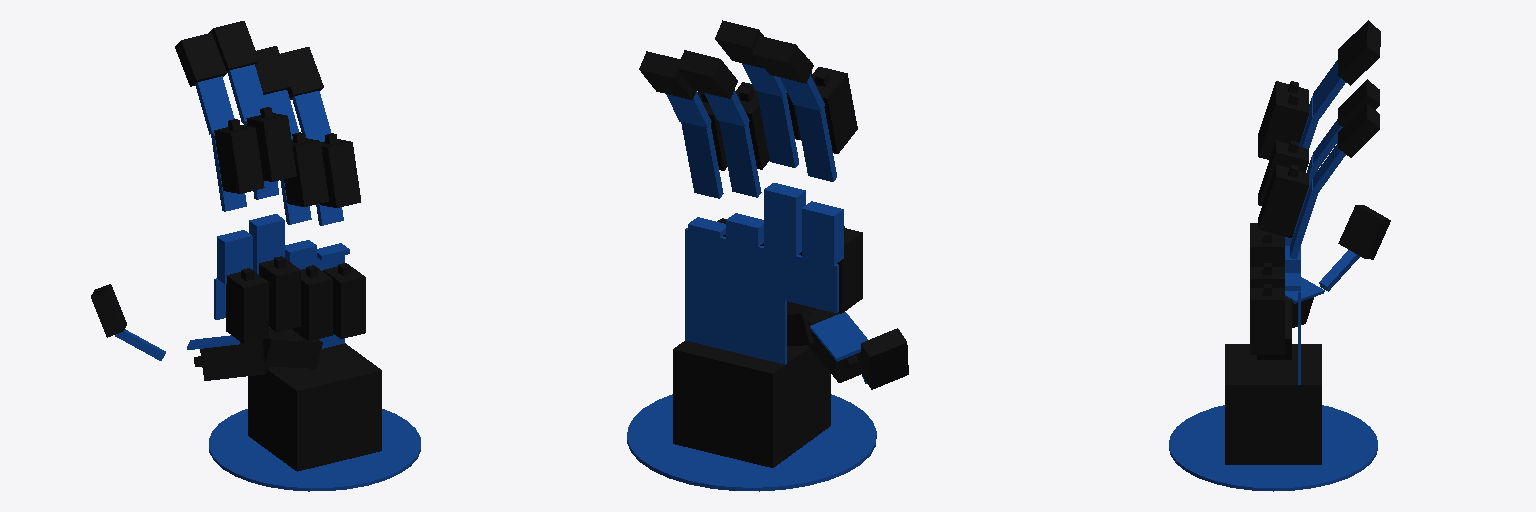
--- Render facts (derived) ---
Views: 3 orthographic renders of the robot side by side, from view 1: azimuth 30°, elevation 25°; view 2: azimuth 150°, elevation 25°; view 3: azimuth 270°, elevation 25°.
Robot: ar10 — 43 links, 42 joints (14 revolute, 10 prismatic, 18 fixed); root link wrist_plate; default pose: every joint at zero.
Visible links, largest first — view 1: circuit_support, wrist_plate, motor8, motor9, motor7, motor6, motor5, motor2, motor4, motor3, motor1, motor0 (+16 smaller); view 2: circuit_support, wrist_plate, palm1, palm2, knuckle3, knuckle4, thumb_tip, motor9, finger1a, finger3a, finger4a, finger2a (+15 smaller); view 3: circuit_support, wrist_plate, motor3, motor2, motor7, thumb_tip, finger1c, finger3c, motor5, motor6, finger2c, finger1a (+6 smaller).
Boxes of the visible links, box(x1,y1,x2,y2) form: circuit_support: box(248, 343, 381, 471); wrist_plate: box(209, 409, 420, 491); motor8: box(226, 269, 268, 343); motor9: box(214, 125, 264, 193); motor7: box(246, 113, 296, 181); motor6: box(259, 257, 300, 332); motor5: box(284, 138, 328, 206); motor2: box(323, 264, 365, 338); motor4: box(292, 268, 332, 340); motor3: box(320, 139, 360, 207); motor1: box(200, 340, 268, 380); motor0: box(263, 328, 322, 368); circuit_support: box(673, 341, 830, 467); wrist_plate: box(627, 394, 876, 491); palm1: box(685, 253, 786, 364); palm2: box(685, 228, 838, 312); knuckle3: box(764, 183, 805, 255); knuckle4: box(802, 201, 843, 264); thumb_tip: box(861, 328, 908, 389); motor9: box(811, 67, 857, 153); finger1a: box(681, 122, 723, 198); finger3a: box(757, 91, 798, 167); finger4a: box(795, 105, 836, 181); finger2a: box(719, 121, 761, 197); circuit_support: box(1225, 344, 1321, 464); wrist_plate: box(1169, 405, 1377, 491); motor3: box(1258, 165, 1308, 237); motor2: box(1250, 288, 1284, 354); motor7: box(1258, 92, 1308, 159); thumb_tip: box(1338, 205, 1390, 259); finger1c: box(1338, 104, 1379, 157); finger3c: box(1338, 32, 1379, 85); motor5: box(1258, 140, 1308, 205); motor6: box(1250, 235, 1284, 266); finger2c: box(1338, 79, 1379, 126); finger1a: box(1290, 179, 1317, 259).
Bounding box of the posed robot: 0.176 × 0.1275 × 0.2463 m (x, y, z).
Geometry: primitives only (box / cylinder / sphere), no mesh files.

robot.urdf — ar10:
<?xml version="1.0" ?>
<!-- =================================================================================== -->
<!-- |    This document was autogenerated by xacro from ar10.urdf.xacro                | -->
<!-- |    EDITING THIS FILE BY HAND IS NOT RECOMMENDED                                 | -->
<!-- =================================================================================== -->
<!--
Active8 Robots, AR10 URDF description
Beta release 1.1
Written by Nick Hornsey 
Last edited on 17/10/16

The following is a URDF description of the AR10 robotic hand (right handed).
The URDF can be viewed in Rviz using the following command from your ros workspace:
roslaunch src/ar10_description/launch/xacrodisplay.launch model:=src/ar10_description/urdf/ar10.urdf.xacro 

The joints can be controlled using the joint_state_publisher GUI.
This also publishes the joint positions to the topic joint_states. 

This model is outdated, for a more accurate representation, ar10.urdf is recommended instead. -->
<robot name="ar10">
  <!--robot name="ar10"> -->
  <link name="wrist_plate">
    <visual>
      <geometry>
        <cylinder length="0.002" radius="0.06"/>
      </geometry>
      <material name="blue">
        <color rgba=".1 .3 .6 1"/>
      </material>
    </visual>
    <collision>
      <geometry>
        <cylinder length="0.002" radius="0.06"/>
      </geometry>
    </collision>
  </link>
  <link name="circuit_support">
    <visual>
      <geometry>
        <box size="0.0555 0.0555 0.05"/>
      </geometry>
      <origin xyz="0 0 0"/>
      <material name="black">
        <color rgba=".1 .1 .1 1"/>
      </material>
    </visual>
    <collision>
      <geometry>
        <box size="0.0555 0.0555 0.05"/>
      </geometry>
    </collision>
    <inertial>
      <mass value="1"/>
      <inertia ixx="0.4" ixy="0.0" ixz="0.0" iyy="0.4" iyz="0.0" izz="0.2"/>
    </inertial>
  </link>
  <joint name="wrist_plate_to_circuit_support" type="fixed">
    <parent link="wrist_plate"/>
    <child link="circuit_support"/>
    <origin xyz="0 0 .026"/>
  </joint>
   define palm1 parameters
  
   define palm2 parameters
  
   define knuckle 1 parameters
  
   define knuckle 2 parameters
  
   define knuckle 3 parameters
  
   define knuckle 4 parameters

  
  <link name="palm1">
    <visual>
      <geometry>
        <box size="0.0555 0.002 0.0463"/>
      </geometry>
      <origin xyz="0 0 0"/>
      <material name="blue">
      </material>
    </visual>
    <collision>
      <geometry>
        <box size="0.0555 0.002 0.0463"/>
      </geometry>
    </collision>
    <inertial>
      <mass value="1"/>
      <inertia ixx="0.4" ixy="0.0" ixz="0.0" iyy="0.4" iyz="0.0" izz="0.2"/>
    </inertial>
  </link>
  <joint name="circuit_support_to_palm1" type="fixed">
    <parent link="circuit_support"/>
    <child link="palm1"/>
    <origin xyz="0 .015 .04815"/>
  </joint>
  <link name="palm2">
    <visual>
      <geometry>
        <box size="0.084 0.002 0.025"/>
      </geometry>
      <origin xyz="0 0 0"/>
      <material name="blue">
      </material>
    </visual>
    <collision>
      <geometry>
        <box size="0.084 0.002 0.025"/>
      </geometry>
    </collision>
    <inertial>
      <mass value="1"/>
      <inertia ixx="0.4" ixy="0.0" ixz="0.0" iyy="0.4" iyz="0.0" izz="0.2"/>
    </inertial>
  </link>
  <joint name="palm1_to_palm2" type="fixed">
    <parent link="palm1"/>
    <child link="palm2"/>
    <origin xyz="-.01425 0 .02315"/>
  </joint>
  <link name="knuckle1">
    <visual>
      <geometry>
        <box size="0.018 0.0095 0.003"/>
      </geometry>
      <origin xyz="0 0 0"/>
      <material name="blue">
      </material>
    </visual>
    <collision>
      <geometry>
        <box size="0.018 0.0095 0.003"/>
      </geometry>
    </collision>
    <inertial>
      <mass value="1"/>
      <inertia ixx="0.4" ixy="0.0" ixz="0.0" iyy="0.4" iyz="0.0" izz="0.2"/>
    </inertial>
  </link>
  <joint name="palm2_to_knuckle1" type="fixed">
    <parent link="palm2"/>
    <child link="knuckle1"/>
    <origin xyz="0.0315 -.00375 .014"/>
  </joint>
  <link name="knuckle2">
    <visual>
      <geometry>
        <box size="0.018 0.0095 0.01"/>
      </geometry>
      <origin xyz="0 0 0"/>
      <material name="blue">
      </material>
    </visual>
    <collision>
      <geometry>
        <box size="0.018 0.0095 0.01"/>
      </geometry>
    </collision>
    <inertial>
      <mass value="1"/>
      <inertia ixx="0.4" ixy="0.0" ixz="0.0" iyy="0.4" iyz="0.0" izz="0.2"/>
    </inertial>
  </link>
  <joint name="palm2_to_knuckle2" type="fixed">
    <parent link="palm2"/>
    <child link="knuckle2"/>
    <origin xyz="0.0105 -.00375 .0175"/>
  </joint>
  <link name="knuckle3">
    <visual>
      <geometry>
        <box size="0.018 0.0095 0.031"/>
      </geometry>
      <origin xyz="0 0 0"/>
      <material name="blue">
      </material>
    </visual>
    <collision>
      <geometry>
        <box size="0.018 0.0095 0.031"/>
      </geometry>
    </collision>
    <inertial>
      <mass value="1"/>
      <inertia ixx="0.4" ixy="0.0" ixz="0.0" iyy="0.4" iyz="0.0" izz="0.2"/>
    </inertial>
  </link>
  <joint name="palm2_to_knuckle3" type="fixed">
    <parent link="palm2"/>
    <child link="knuckle3"/>
    <origin xyz="-.0105 -.00375 0.028"/>
  </joint>
  <link name="knuckle4">
    <visual>
      <geometry>
        <box size="0.018 0.0095 0.026"/>
      </geometry>
      <origin xyz="0 0 0"/>
      <material name="blue">
      </material>
    </visual>
    <collision>
      <geometry>
        <box size="0.018 0.0095 0.026"/>
      </geometry>
    </collision>
    <inertial>
      <mass value="1"/>
      <inertia ixx="0.4" ixy="0.0" ixz="0.0" iyy="0.4" iyz="0.0" izz="0.2"/>
    </inertial>
  </link>
  <joint name="palm2_to_knuckle4" type="fixed">
    <parent link="palm2"/>
    <child link="knuckle4"/>
    <origin xyz="-.0315 -.00375 .0255"/>
  </joint>
   define fingers

  
  <link name="finger1a">
    <visual>
      <geometry>
        <box size="0.014 0.004 0.045"/>
      </geometry>
      <origin xyz="0 0 0.0225"/>
      <material name="blue">
      </material>
    </visual>
    <collision>
      <geometry>
        <box size="0.014 0.004 0.045"/>
      </geometry>
      <origin xyz="0 0 0.0225"/>
    </collision>
    <inertial>
      <mass value="1"/>
      <inertia ixx="0.4" ixy="0.0" ixz="0.0" iyy="0.4" iyz="0.0" izz="0.2"/>
    </inertial>
  </link>
  <joint name="knuckle1_to_finger1a" type="revolute">
    <axis xyz="-1 0 0"/>
    <limit effort="1000.0" lower="0.0" upper="1.5" velocity="0.5"/>
    <parent link="knuckle1"/>
    <child link="finger1a"/>
    <origin xyz="0 0 .018"/>
    <joint_properties damping="1.0" friction="0.0"/>
    <mimic joint="pris2" multiplier="79.93" offset="0.29"/>
  </joint>
  <link name="finger2a">
    <visual>
      <geometry>
        <box size="0.014 0.004 0.045"/>
      </geometry>
      <origin xyz="0 0 0.0225"/>
      <material name="blue">
      </material>
    </visual>
    <collision>
      <geometry>
        <box size="0.014 0.004 0.045"/>
      </geometry>
      <origin xyz="0 0 0.0225"/>
    </collision>
    <inertial>
      <mass value="1"/>
      <inertia ixx="0.4" ixy="0.0" ixz="0.0" iyy="0.4" iyz="0.0" izz="0.2"/>
    </inertial>
  </link>
  <joint name="knuckle2_to_finger2a" type="revolute">
    <axis xyz="-1 0 0"/>
    <limit effort="1000.0" lower="0.0" upper="1.5" velocity="0.5"/>
    <parent link="knuckle2"/>
    <child link="finger2a"/>
    <origin xyz="0 0 .02"/>
    <joint_properties damping="1.0" friction="0.0"/>
    <mimic joint="pris4" multiplier="79.93" offset="0.29"/>
  </joint>
  <link name="finger3a">
    <visual>
      <geometry>
        <box size="0.014 0.004 0.045"/>
      </geometry>
      <origin xyz="0 0 0.0225"/>
      <material name="blue">
      </material>
    </visual>
    <collision>
      <geometry>
        <box size="0.014 0.004 0.045"/>
      </geometry>
      <origin xyz="0 0 0.0225"/>
    </collision>
    <inertial>
      <mass value="1"/>
      <inertia ixx="0.4" ixy="0.0" ixz="0.0" iyy="0.4" iyz="0.0" izz="0.2"/>
    </inertial>
  </link>
  <joint name="knuckle3_to_finger3a" type="revolute">
    <axis xyz="-1 0 0"/>
    <limit effort="1000.0" lower="0.0" upper="1.5" velocity="0.5"/>
    <parent link="knuckle3"/>
    <child link="finger3a"/>
    <origin xyz="0 0 .03"/>
    <joint_properties damping="1.0" friction="0.0"/>
    <mimic joint="pris6" multiplier="79.93" offset="0.29"/>
  </joint>
  <link name="finger4a">
    <visual>
      <geometry>
        <box size="0.014 0.004 0.045"/>
      </geometry>
      <origin xyz="0 0 0.0225"/>
      <material name="blue">
      </material>
    </visual>
    <collision>
      <geometry>
        <box size="0.014 0.004 0.045"/>
      </geometry>
      <origin xyz="0 0 0.0225"/>
    </collision>
    <inertial>
      <mass value="1"/>
      <inertia ixx="0.4" ixy="0.0" ixz="0.0" iyy="0.4" iyz="0.0" izz="0.2"/>
    </inertial>
  </link>
  <joint name="knuckle4_to_finger4a" type="revolute">
    <axis xyz="-1 0 0"/>
    <limit effort="1000.0" lower="0.0" upper="1.5" velocity="0.5"/>
    <parent link="knuckle4"/>
    <child link="finger4a"/>
    <origin xyz="0 0 .03"/>
    <joint_properties damping="1.0" friction="0.0"/>
    <mimic joint="pris8" multiplier="79.93" offset="0.29"/>
  </joint>
  <link name="finger1b">
    <visual>
      <geometry>
        <box size="0.016 0.004 0.03"/>
      </geometry>
      <origin xyz="0 0 0.015"/>
      <material name="blue">
      </material>
    </visual>
    <collision>
      <geometry>
        <box size="0.016 0.004 0.03"/>
      </geometry>
      <origin xyz="0 0 0.015"/>
    </collision>
    <inertial>
      <mass value="1"/>
      <inertia ixx="0.4" ixy="0.0" ixz="0.0" iyy="0.4" iyz="0.0" izz="0.2"/>
    </inertial>
  </link>
  <joint name="finger1a_to_finger1b" type="revolute">
    <axis xyz="-1 0 0"/>
    <limit effort="1000.0" lower="0.0" upper="1.5" velocity="0.5"/>
    <parent link="finger1a"/>
    <child link="finger1b"/>
    <origin xyz="0 0 0.045"/>
    <mimic joint="pris3" multiplier="79.64" offset="0.29"/>
    <joint_properties damping="1.0" friction="0.0"/>
  </joint>
  <link name="finger2b">
    <visual>
      <geometry>
        <box size="0.016 0.004 0.03"/>
      </geometry>
      <origin xyz="0 0 0.015"/>
      <material name="blue">
      </material>
    </visual>
    <collision>
      <geometry>
        <box size="0.016 0.004 0.03"/>
      </geometry>
      <origin xyz="0 0 0.015"/>
    </collision>
    <inertial>
      <mass value="1"/>
      <inertia ixx="0.4" ixy="0.0" ixz="0.0" iyy="0.4" iyz="0.0" izz="0.2"/>
    </inertial>
  </link>
  <joint name="finger2a_to_finger2b" type="revolute">
    <axis xyz="-1 0 0"/>
    <limit effort="1000.0" lower="0.0" upper="1.5" velocity="0.5"/>
    <parent link="finger2a"/>
    <child link="finger2b"/>
    <origin xyz="0 0 0.045"/>
    <joint_properties damping="1.0" friction="0.0"/>
    <mimic joint="pris5" multiplier="79.64" offset="0.29"/>
  </joint>
  <link name="finger3b">
    <visual>
      <geometry>
        <box size="0.016 0.004 0.03"/>
      </geometry>
      <origin xyz="0 0 0.015"/>
      <material name="blue">
      </material>
    </visual>
    <collision>
      <geometry>
        <box size="0.016 0.004 0.03"/>
      </geometry>
      <origin xyz="0 0 0.015"/>
    </collision>
    <inertial>
      <mass value="1"/>
      <inertia ixx="0.4" ixy="0.0" ixz="0.0" iyy="0.4" iyz="0.0" izz="0.2"/>
    </inertial>
  </link>
  <joint name="finger3a_to_finger3b" type="revolute">
    <axis xyz="-1 0 0"/>
    <limit effort="1000.0" lower="0.0" upper="1.5" velocity="0.5"/>
    <parent link="finger3a"/>
    <child link="finger3b"/>
    <origin xyz="0 0 0.045"/>
    <joint_properties damping="1.0" friction="0.0"/>
    <mimic joint="pris7" multiplier="79.64" offset="0.29"/>
  </joint>
  <link name="finger4b">
    <visual>
      <geometry>
        <box size="0.016 0.004 0.03"/>
      </geometry>
      <origin xyz="0 0 0.015"/>
      <material name="blue">
      </material>
    </visual>
    <collision>
      <geometry>
        <box size="0.016 0.004 0.03"/>
      </geometry>
      <origin xyz="0 0 0.015"/>
    </collision>
    <inertial>
      <mass value="1"/>
      <inertia ixx="0.4" ixy="0.0" ixz="0.0" iyy="0.4" iyz="0.0" izz="0.2"/>
    </inertial>
  </link>
  <joint name="finger4a_to_finger4b" type="revolute">
    <axis xyz="-1 0 0"/>
    <limit effort="1000.0" lower="0.0" upper="1.5" velocity="0.5"/>
    <parent link="finger4a"/>
    <child link="finger4b"/>
    <origin xyz="0 0 0.045"/>
    <joint_properties damping="1.0" friction="0.0"/>
    <mimic joint="pris9" multiplier="79.64" offset="0.29"/>
  </joint>
  <link name="finger1c">
    <visual>
      <geometry>
        <box size="0.02 0.01 0.025"/>
      </geometry>
      <origin xyz="0 0 0.0125"/>
      <material name="black">
      </material>
    </visual>
    <collision>
      <geometry>
        <box size="0.02 0.01 0.025"/>
      </geometry>
      <origin xyz="0 0 0.0125"/>
    </collision>
    <inertial>
      <mass value="1"/>
      <inertia ixx="0.4" ixy="0.0" ixz="0.0" iyy="0.4" iyz="0.0" izz="0.2"/>
    </inertial>
  </link>
  <joint name="finger1b_to_finger1c" type="revolute">
    <parent link="finger1b"/>
    <child link="finger1c"/>
    <origin xyz="0 0 0.03"/>
    <axis xyz="-1 0 0"/>
    <limit effort="1000.0" lower="0" upper="1.5" velocity="0.5"/>
    <mimic joint="pris3" multiplier="68.88" offset="0.16"/>
  </joint>
  <link name="finger2c">
    <visual>
      <geometry>
        <box size="0.02 0.01 0.025"/>
      </geometry>
      <origin xyz="0 0 0.0125"/>
      <material name="black">
      </material>
    </visual>
    <collision>
      <geometry>
        <box size="0.02 0.01 0.025"/>
      </geometry>
      <origin xyz="0 0 0.03"/>
    </collision>
    <inertial>
      <mass value="1"/>
      <inertia ixx="0.4" ixy="0.0" ixz="0.0" iyy="0.4" iyz="0.0" izz="0.2"/>
    </inertial>
  </link>
  <joint name="finger2b_to_finger2c" type="revolute">
    <parent link="finger2b"/>
    <child link="finger2c"/>
    <origin xyz="0 0 0.03"/>
    <axis xyz="-1 0 0"/>
    <limit effort="1000.0" lower="0" upper="1.5" velocity="0.5"/>
    <mimic joint="pris5" multiplier="68.88" offset="0.16"/>
  </joint>
  <link name="finger3c">
    <visual>
      <geometry>
        <box size="0.02 0.01 0.025"/>
      </geometry>
      <origin xyz="0 0 0.0125"/>
      <material name="black">
      </material>
      <inertial>
        <mass value="10"/>
        <inertia ixx="0.4" ixy="0.0" ixz="0.0" iyy="0.4" iyz="0.0" izz="0.2"/>
      </inertial>
    </visual>
    <collision>
      <geometry>
        <box size="0.02 0.01 0.025"/>
      </geometry>
      <origin xyz="0 0 0.0125"/>
    </collision>
    <inertial>
      <mass value="1"/>
      <inertia ixx="0.4" ixy="0.0" ixz="0.0" iyy="0.4" iyz="0.0" izz="0.2"/>
    </inertial>
  </link>
  <joint name="finger3b_to_finger3c" type="revolute">
    <parent link="finger3b"/>
    <child link="finger3c"/>
    <origin xyz="0 0 0.03"/>
    <axis xyz="-1 0 0"/>
    <limit effort="1000.0" lower="0" upper="1.5" velocity="0.5"/>
    <mimic joint="pris7" multiplier="68.88" offset="0.16"/>
  </joint>
  <link name="finger4c">
    <visual>
      <geometry>
        <box size="0.02 0.01 0.025"/>
      </geometry>
      <origin xyz="0 0 0.0125"/>
      <material name="black">
      </material>
    </visual>
    <collision>
      <geometry>
        <box size="0.02 0.01 0.025"/>
      </geometry>
      <origin xyz="0 0 0.0125"/>
    </collision>
    <inertial>
      <mass value="1"/>
      <inertia ixx="0.4" ixy="0.0" ixz="0.0" iyy="0.4" iyz="0.0" izz="0.2"/>
    </inertial>
  </link>
  <joint name="finger4b_to_finger4c" type="revolute">
    <parent link="finger4b"/>
    <child link="finger4c"/>
    <origin xyz="0 0 0.03"/>
    <axis xyz="-1 0 0"/>
    <limit effort="1000.0" lower="0" upper="1.5" velocity="0.5"/>
    <mimic joint="pris9" multiplier="68.88" offset="0.19"/>
  </joint>
  <link name="thumb">
    <visual>
      <geometry>
        <box size="0.019 0.03 0.002"/>
      </geometry>
      <origin xyz="0 0.015 0"/>
      <material name="blue">
      </material>
    </visual>
    <collision>
      <geometry>
        <box size="0.019 0.03 0.002"/>
      </geometry>
      <origin xyz="0 0.015 0"/>
    </collision>
    <inertial>
      <mass value="1"/>
      <inertia ixx="0.4" ixy="0.0" ixz="0.0" iyy="0.4" iyz="0.0" izz="0.2"/>
    </inertial>
  </link>
  <joint name="palm1_to_thumb" type="revolute">
    <axis xyz="0 0 -1"/>
    <limit effort="1000.0" lower="0" upper="1.5" velocity="0.5"/>
    <parent link="palm1"/>
    <child link="thumb"/>
    <origin rpy=" 0 0.279 1.57 " xyz="-.045 -.01 0"/>
    <joint_properties damping="1.0" friction="0.0"/>
    <mimic joint="pris0" multiplier="83.5" offset="0.62"/>
  </joint>
  <link name="thumb2">
    <visual>
      <geometry>
        <box size="0.006 0.03 0.005"/>
      </geometry>
      <origin xyz="0 .015 0"/>
      <material name="blue">
      </material>
    </visual>
    <collision>
      <geometry>
        <box size="0.006 0.03 0.005"/>
      </geometry>
      <origin xyz="0 .015 0"/>
    </collision>
    <inertial>
      <mass value="1"/>
      <inertia ixx="0.4" ixy="0.0" ixz="0.0" iyy="0.4" iyz="0.0" izz="0.2"/>
    </inertial>
  </link>
  <joint name="thumb_to_thumb2" type="revolute">
    <axis xyz="1 0 0"/>
    <limit effort="1000.0" lower="0.0" upper="1.5" velocity="0.5"/>
    <parent link="thumb"/>
    <child link="thumb2"/>
    <origin xyz="0 0.045 -.005"/>
    <joint_properties damping="1.0" friction="0.0"/>
    <mimic joint="pris1" multiplier="56.5" offset="0.63"/>
  </joint>
  <link name="thumb_tip">
    <visual>
      <geometry>
        <box size="0.02 0.025 0.01"/>
      </geometry>
      <origin xyz="0 .0125 0"/>
      <material name="black">
      </material>
    </visual>
    <collision>
      <geometry>
        <box size="0.02 0.025 0.01"/>
      </geometry>
      <origin xyz="0 .0125 0"/>
    </collision>
    <inertial>
      <mass value="1"/>
      <inertia ixx="0.4" ixy="0.0" ixz="0.0" iyy="0.4" iyz="0.0" izz="0.2"/>
    </inertial>
  </link>
  <joint name="thumb2_to_thumb_tip" type="fixed">
    <axis xyz="1 0 0"/>
    <parent link="thumb2"/>
    <child link="thumb_tip"/>
    <origin rpy="0.698 0 0" xyz="0 0.03 0"/>
  </joint>
  <link name="motor0">
    <visual>
      <geometry>
        <box size="0.016 0.035 0.02"/>
      </geometry>
      <origin xyz="0 .02 0"/>
      <material name="black">
      </material>
    </visual>
    <collision>
      <geometry>
        <box size="0.016 0.035 0.02"/>
      </geometry>
      <origin xyz="0 .02 0"/>
    </collision>
    <inertial>
      <mass value="1"/>
      <inertia ixx="0.4" ixy="0.0" ixz="0.0" iyy="0.4" iyz="0.0" izz="0.2"/>
    </inertial>
  </link>
  <joint name="palm1_to_motor0" type="fixed">
    <axis xyz="1 0 0"/>
    <parent link="palm1"/>
    <child link="motor0"/>
    <origin rpy="1.57 -1.2944999999999998 0" xyz="0 -.0145 -.015"/>
  </joint>
  <link name="pris0">
    <visual>
      <geometry>
        <box size="0.005 0.005 0.025"/>
      </geometry>
      <origin xyz="0 0 0"/>
      <material name="black">
      </material>
    </visual>
    <inertial>
      <mass value="1"/>
      <inertia ixx="0.4" ixy="0.0" ixz="0.0" iyy="0.4" iyz="0.0" izz="0.2"/>
    </inertial>
  </link>
  <joint name="pris0" type="prismatic">
    <axis xyz="0 0 -1"/>
    <limit effort="1000.0" lower="0.0" upper="0.02" velocity="0.1"/>
    <parent link="motor0"/>
    <child link="pris0"/>
    <origin rpy="1.57 0 0" xyz="0 .03 0"/>
  </joint>
  <link name="motor1">
    <visual>
      <geometry>
        <box size="0.016 0.035 0.02"/>
      </geometry>
      <origin xyz="0 .02 0"/>
      <material name="black">
      </material>
    </visual>
    <collision>
      <geometry>
        <box size="0.016 0.035 0.02"/>
      </geometry>
      <origin xyz="0 .02 0"/>
    </collision>
    <inertial>
      <mass value="1"/>
      <inertia ixx="0.4" ixy="0.0" ixz="0.0" iyy="0.4" iyz="0.0" izz="0.2"/>
    </inertial>
  </link>
  <joint name="thumb_to_motor1" type="fixed">
    <axis xyz="1 0 0"/>
    <parent link="thumb"/>
    <child link="motor1"/>
    <origin rpy="0 0 0" xyz="0 -.0145 -.01"/>
  </joint>
  <link name="pris1">
    <visual>
      <geometry>
        <box size="0.005 0.005 0.025"/>
      </geometry>
      <origin xyz="0 0 0"/>
      <material name="black">
      </material>
    </visual>
    <inertial>
      <mass value="1"/>
      <inertia ixx="0.4" ixy="0.0" ixz="0.0" iyy="0.4" iyz="0.0" izz="0.2"/>
    </inertial>
  </link>
  <joint name="pris1" type="prismatic">
    <axis xyz="0 0 -1"/>
    <limit effort="1000.0" lower="0.0" upper="0.02" velocity="0.1"/>
    <parent link="motor1"/>
    <child link="pris1"/>
    <origin rpy="1.57 0 0" xyz="0 .03 0"/>
  </joint>
  <link name="motor2">
    <visual>
      <geometry>
        <box size="0.016 0.035 0.02"/>
      </geometry>
      <origin xyz="0 .02 0"/>
      <material name="black">
      </material>
    </visual>
    <collision>
      <geometry>
        <box size="0.016 0.035 0.02"/>
      </geometry>
      <origin xyz="0 .02 0"/>
    </collision>
    <inertial>
      <mass value="1"/>
      <inertia ixx="0.4" ixy="0.0" ixz="0.0" iyy="0.4" iyz="0.0" izz="0.2"/>
    </inertial>
  </link>
  <joint name="knuckle1_to_motor2" type="fixed">
    <axis xyz="1 0 0"/>
    <parent link="knuckle1"/>
    <child link="motor2"/>
    <origin rpy="1.57 0 0" xyz="0 -.0145 -.045"/>
  </joint>
  <link name="pris2">
    <visual>
      <geometry>
        <box size="0.005 0.005 0.025"/>
      </geometry>
      <origin xyz="0 0 0"/>
      <material name="black">
      </material>
    </visual>
    <inertial>
      <mass value="1"/>
      <inertia ixx="0.4" ixy="0.0" ixz="0.0" iyy="0.4" iyz="0.0" izz="0.2"/>
    </inertial>
  </link>
  <joint name="pris2" type="prismatic">
    <axis xyz="0 0 -1"/>
    <limit effort="1000.0" lower="0.0" upper="0.02" velocity="0.1"/>
    <parent link="motor2"/>
    <child link="pris2"/>
    <origin rpy="1.57 0 0" xyz="0 .03 0"/>
  </joint>
  <link name="motor3">
    <visual>
      <geometry>
        <box size="0.016 0.035 0.02"/>
      </geometry>
      <origin xyz="0 .02 0"/>
      <material name="black">
      </material>
    </visual>
    <collision>
      <geometry>
        <box size="0.016 0.035 0.02"/>
      </geometry>
      <origin xyz="0 .02 0"/>
    </collision>
    <inertial>
      <mass value="1"/>
      <inertia ixx="0.4" ixy="0.0" ixz="0.0" iyy="0.4" iyz="0.0" izz="0.2"/>
    </inertial>
  </link>
  <joint name="motor3_to_finger1a" type="fixed">
    <axis xyz="1 0 0"/>
    <parent link="finger1a"/>
    <child link="motor3"/>
    <origin rpy="1.57 0 0" xyz="0 -.0145 .01"/>
  </joint>
  <link name="pris3">
    <visual>
      <geometry>
        <box size="0.005 0.005 0.025"/>
      </geometry>
      <origin xyz="0 0 0"/>
      <material name="black">
      </material>
    </visual>
    <inertial>
      <mass value="1"/>
      <inertia ixx="0.4" ixy="0.0" ixz="0.0" iyy="0.4" iyz="0.0" izz="0.2"/>
    </inertial>
  </link>
  <joint name="pris3" type="prismatic">
    <axis xyz="0 0 -1"/>
    <limit effort="1000.0" lower="0.0" upper="0.02" velocity="0.1"/>
    <parent link="motor3"/>
    <child link="pris3"/>
    <origin rpy="1.57 0 0" xyz="0 .03 0"/>
  </joint>
  <link name="motor4">
    <visual>
      <geometry>
        <box size="0.016 0.035 0.02"/>
      </geometry>
      <origin xyz="0 .02 0"/>
      <material name="black">
      </material>
    </visual>
    <collision>
      <geometry>
        <box size="0.016 0.035 0.02"/>
      </geometry>
      <origin xyz="0 .02 0"/>
    </collision>
    <inertial>
      <mass value="1"/>
      <inertia ixx="0.4" ixy="0.0" ixz="0.0" iyy="0.4" iyz="0.0" izz="0.2"/>
    </inertial>
  </link>
  <joint name="knuckle2_to_motor4" type="fixed">
    <axis xyz="1 0 0"/>
    <parent link="knuckle2"/>
    <child link="motor4"/>
    <origin rpy="1.57 0 0" xyz="0 -.0145 -.045"/>
  </joint>
  <link name="pris4">
    <visual>
      <geometry>
        <box size="0.005 0.005 0.025"/>
      </geometry>
      <origin xyz="0 0 0"/>
      <material name="black">
      </material>
    </visual>
    <inertial>
      <mass value="1"/>
      <inertia ixx="0.4" ixy="0.0" ixz="0.0" iyy="0.4" iyz="0.0" izz="0.2"/>
    </inertial>
  </link>
  <joint name="pris4" type="prismatic">
    <axis xyz="0 0 -1"/>
    <limit effort="1000.0" lower="0.0" upper="0.02" velocity="0.1"/>
    <parent link="motor4"/>
    <child link="pris4"/>
    <origin rpy="1.57 0 0" xyz="0 .03 0"/>
  </joint>
  <link name="motor5">
    <visual>
      <geometry>
        <box size="0.016 0.035 0.02"/>
      </geometry>
      <origin xyz="0 .02 0"/>
      <material name="black">
      </material>
    </visual>
    <collision>
      <geometry>
        <box size="0.016 0.035 0.02"/>
      </geometry>
      <origin xyz="0 .02 0"/>
    </collision>
    <inertial>
      <mass value="1"/>
      <inertia ixx="0.4" ixy="0.0" ixz="0.0" iyy="0.4" iyz="0.0" izz="0.2"/>
    </inertial>
  </link>
  <joint name="motor5_to_finger2a" type="fixed">
    <axis xyz="1 0 0"/>
    <parent link="finger2a"/>
    <child link="motor5"/>
    <origin rpy="1.57 0 0" xyz="0 -.0145 .01"/>
  </joint>
  <link name="pris5">
    <visual>
      <geometry>
        <box size="0.005 0.005 0.025"/>
      </geometry>
      <origin xyz="0 0 0"/>
      <material name="black">
      </material>
    </visual>
    <inertial>
      <mass value="1"/>
      <inertia ixx="0.4" ixy="0.0" ixz="0.0" iyy="0.4" iyz="0.0" izz="0.2"/>
    </inertial>
  </link>
  <joint name="pris5" type="prismatic">
    <axis xyz="0 0 -1"/>
    <limit effort="1000.0" lower="0.0" upper="0.02" velocity="0.1"/>
    <parent link="motor5"/>
    <child link="pris5"/>
    <origin rpy="1.57 0 0" xyz="0 .03 0"/>
  </joint>
  <link name="motor6">
    <visual>
      <geometry>
        <box size="0.016 0.035 0.02"/>
      </geometry>
      <origin xyz="0 .02 0"/>
      <material name="black">
      </material>
    </visual>
    <collision>
      <geometry>
        <box size="0.016 0.035 0.02"/>
      </geometry>
      <origin xyz="0 .02 0"/>
    </collision>
    <inertial>
      <mass value="1"/>
      <inertia ixx="0.4" ixy="0.0" ixz="0.0" iyy="0.4" iyz="0.0" izz="0.2"/>
    </inertial>
  </link>
  <joint name="knuckle3_to_motor6" type="fixed">
    <axis xyz="1 0 0"/>
    <parent link="knuckle3"/>
    <child link="motor6"/>
    <origin rpy="1.57 0 0" xyz="0 -.0145 -.045"/>
  </joint>
  <link name="pris6">
    <visual>
      <geometry>
        <box size="0.005 0.005 0.025"/>
      </geometry>
      <origin xyz="0 0 0"/>
      <material name="black">
      </material>
    </visual>
    <inertial>
      <mass value="1"/>
      <inertia ixx="0.4" ixy="0.0" ixz="0.0" iyy="0.4" iyz="0.0" izz="0.2"/>
    </inertial>
  </link>
  <joint name="pris6" type="prismatic">
    <axis xyz="0 0 -1"/>
    <limit effort="1000.0" lower="0.0" upper="0.02" velocity="0.1"/>
    <parent link="motor6"/>
    <child link="pris6"/>
    <origin rpy="1.57 0 0" xyz="0 .03 0"/>
  </joint>
  <link name="motor7">
    <visual>
      <geometry>
        <box size="0.016 0.035 0.02"/>
      </geometry>
      <origin xyz="0 .02 0"/>
      <material name="black">
      </material>
    </visual>
    <collision>
      <geometry>
        <box size="0.016 0.035 0.02"/>
      </geometry>
      <origin xyz="0 .02 0"/>
    </collision>
    <inertial>
      <mass value="1"/>
      <inertia ixx="0.4" ixy="0.0" ixz="0.0" iyy="0.4" iyz="0.0" izz="0.2"/>
    </inertial>
  </link>
  <joint name="motor7_to_finger3a" type="fixed">
    <axis xyz="1 0 0"/>
    <parent link="finger3a"/>
    <child link="motor7"/>
    <origin rpy="1.57 0 0" xyz="0 -.0145 .01"/>
  </joint>
  <link name="pris7">
    <visual>
      <geometry>
        <box size="0.005 0.005 0.025"/>
      </geometry>
      <origin xyz="0 0 0"/>
      <material name="black">
      </material>
    </visual>
    <inertial>
      <mass value="1"/>
      <inertia ixx="0.4" ixy="0.0" ixz="0.0" iyy="0.4" iyz="0.0" izz="0.2"/>
    </inertial>
  </link>
  <joint name="pris7" type="prismatic">
    <axis xyz="0 0 -1"/>
    <limit effort="1000.0" lower="0.0" upper="0.02" velocity="0.1"/>
    <parent link="motor7"/>
    <child link="pris7"/>
    <origin rpy="1.57 0 0" xyz="0 .03 0"/>
  </joint>
  <link name="motor8">
    <visual>
      <geometry>
        <box size="0.016 0.035 0.02"/>
      </geometry>
      <origin xyz="0 .02 0"/>
      <material name="black">
      </material>
    </visual>
    <collision>
      <geometry>
        <box size="0.016 0.035 0.02"/>
      </geometry>
      <origin xyz="0 .02 0"/>
    </collision>
    <inertial>
      <mass value="1"/>
      <inertia ixx="0.4" ixy="0.0" ixz="0.0" iyy="0.4" iyz="0.0" izz="0.2"/>
    </inertial>
  </link>
  <joint name="knuckle4_to_motor8" type="fixed">
    <axis xyz="1 0 0"/>
    <parent link="knuckle4"/>
    <child link="motor8"/>
    <origin rpy="1.57 0 0" xyz="0 -.0145 -.045"/>
  </joint>
  <link name="pris8">
    <visual>
      <geometry>
        <box size="0.005 0.005 0.025"/>
      </geometry>
      <origin xyz="0 0 0"/>
      <material name="black">
      </material>
    </visual>
    <inertial>
      <mass value="1"/>
      <inertia ixx="0.4" ixy="0.0" ixz="0.0" iyy="0.4" iyz="0.0" izz="0.2"/>
    </inertial>
  </link>
  <joint name="pris8" type="prismatic">
    <axis xyz="0 0 -1"/>
    <limit effort="1000.0" lower="0.0" upper="0.02" velocity="0.1"/>
    <parent link="motor8"/>
    <child link="pris8"/>
    <origin rpy="1.57 0 0" xyz="0 .03 0"/>
  </joint>
  <link name="motor9">
    <visual>
      <geometry>
        <box size="0.016 0.035 0.02"/>
      </geometry>
      <origin xyz="0 .02 0"/>
      <material name="black">
      </material>
    </visual>
    <collision>
      <geometry>
        <box size="0.016 0.035 0.02"/>
      </geometry>
      <origin xyz="0 .02 0"/>
    </collision>
    <inertial>
      <mass value="1"/>
      <inertia ixx="0.4" ixy="0.0" ixz="0.0" iyy="0.4" iyz="0.0" izz="0.2"/>
    </inertial>
  </link>
  <joint name="motor9_to_finger4a" type="fixed">
    <axis xyz="1 0 0"/>
    <parent link="finger4a"/>
    <child link="motor9"/>
    <origin rpy="1.57 0 0" xyz="0 -.0145 .01"/>
  </joint>
  <link name="pris9">
    <visual>
      <geometry>
        <box size="0.005 0.005 0.025"/>
      </geometry>
      <origin xyz="0 0 0"/>
      <material name="black">
      </material>
    </visual>
    <inertial>
      <mass value="1"/>
      <inertia ixx="0.4" ixy="0.0" ixz="0.0" iyy="0.4" iyz="0.0" izz="0.2"/>
    </inertial>
  </link>
  <joint name="pris9" type="prismatic">
    <axis xyz="0 0 -1"/>
    <limit effort="1000.0" lower="0.0" upper=".02" velocity="0.1"/>
    <parent link="motor9"/>
    <child link="pris9"/>
    <origin rpy="1.57 0 0" xyz="0 .03 0"/>
  </joint>
</robot>
